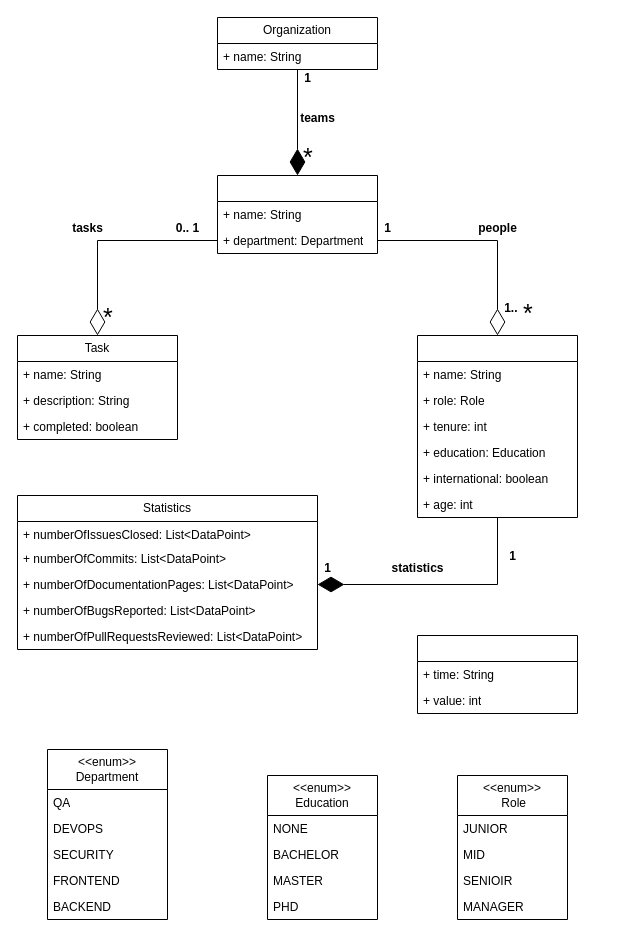
Image size: 635x940. Some labels were removed from this diagram. Each missing label, with the box of its shape:
DataPoint: (416, 634, 578, 714)
Person: (416, 334, 578, 518)
Team: (216, 174, 378, 254)
